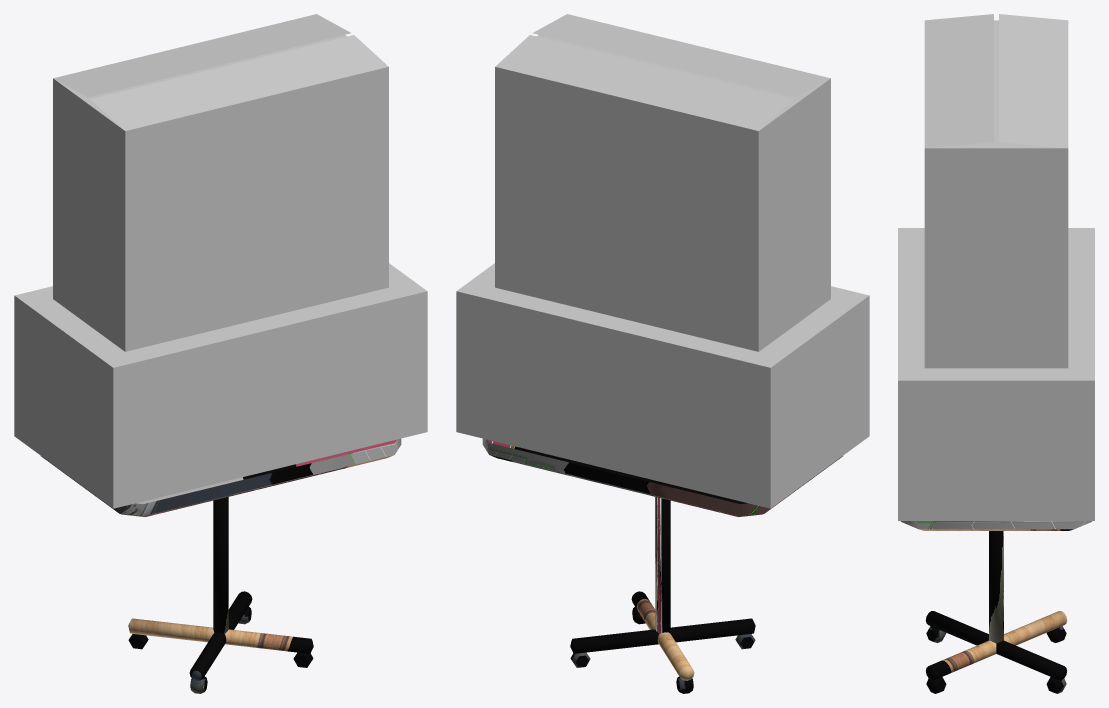
The model's file is CardboardSquare.fbx.
The picture shows the model from 3 angles, left to right: view 1: azimuth 30°, elevation 25°; view 2: azimuth 150°, elevation 25°; view 3: azimuth 270°, elevation 25°; orthographic projection.
Visible parts, largest first — view 1: CardboardBoxed, Table; view 2: CardboardBoxed, Table; view 3: CardboardBoxed, Table.
Part boxes in pixels (x1=…): CardboardBoxed: x1=14, y1=14, x2=427, y2=508; Table: x1=41, y1=438, x2=401, y2=693; CardboardBoxed: x1=456, y1=14, x2=869, y2=508; Table: x1=482, y1=438, x2=842, y2=693; CardboardBoxed: x1=898, y1=14, x2=1094, y2=520; Table: x1=900, y1=521, x2=1092, y2=693.
Size of the model in its own units: 44.01 by 79.07 by 24.
